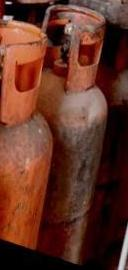cylinder: (1, 1, 128, 270)
